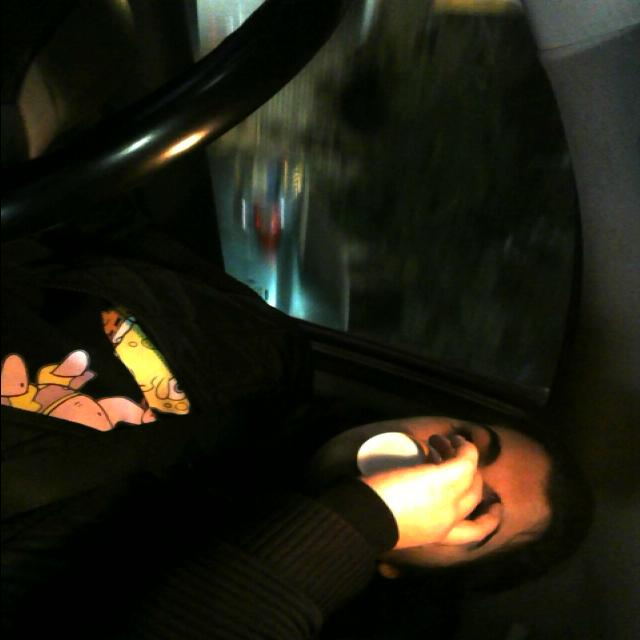drinking: (349, 427, 454, 488)
